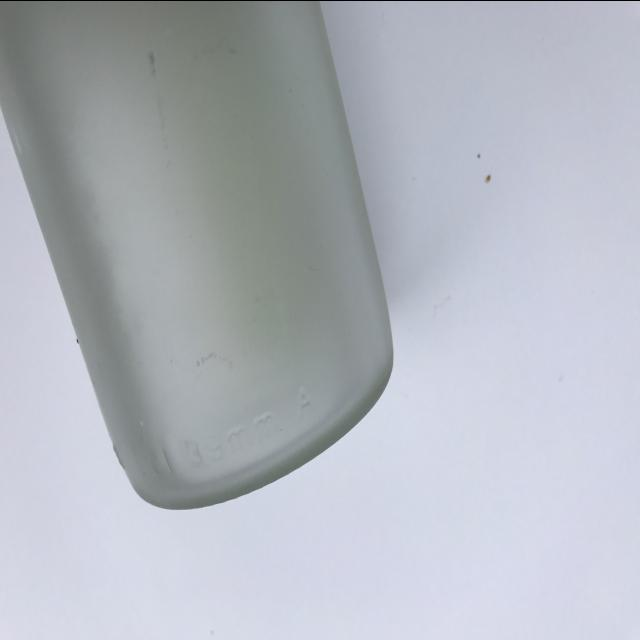glass: (0, 4, 394, 513)
